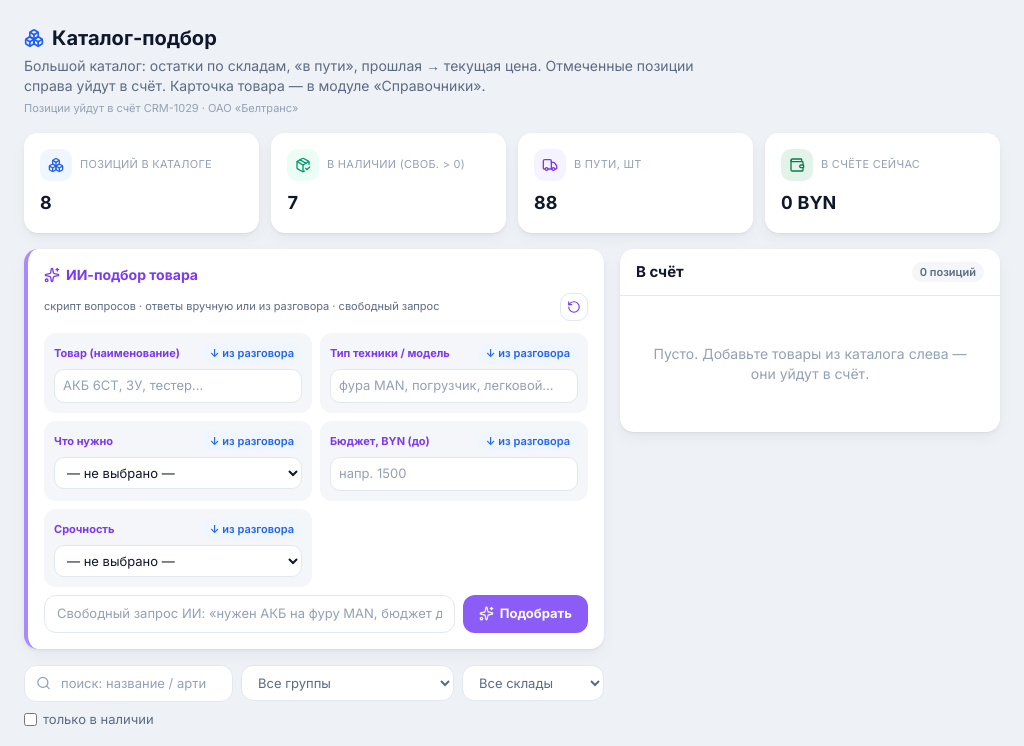
it: CatalogPicker › ИИ-подбор по свободному запросу ранжирует товар и кладёт его в счёт
Step 1. Replace the text in the field with placeholder "Свободный запрос ИИ" with "нужен АКБ на фуру MAN бюджет до 1500 срочно" → (249, 614), box [44, 595, 455, 632]
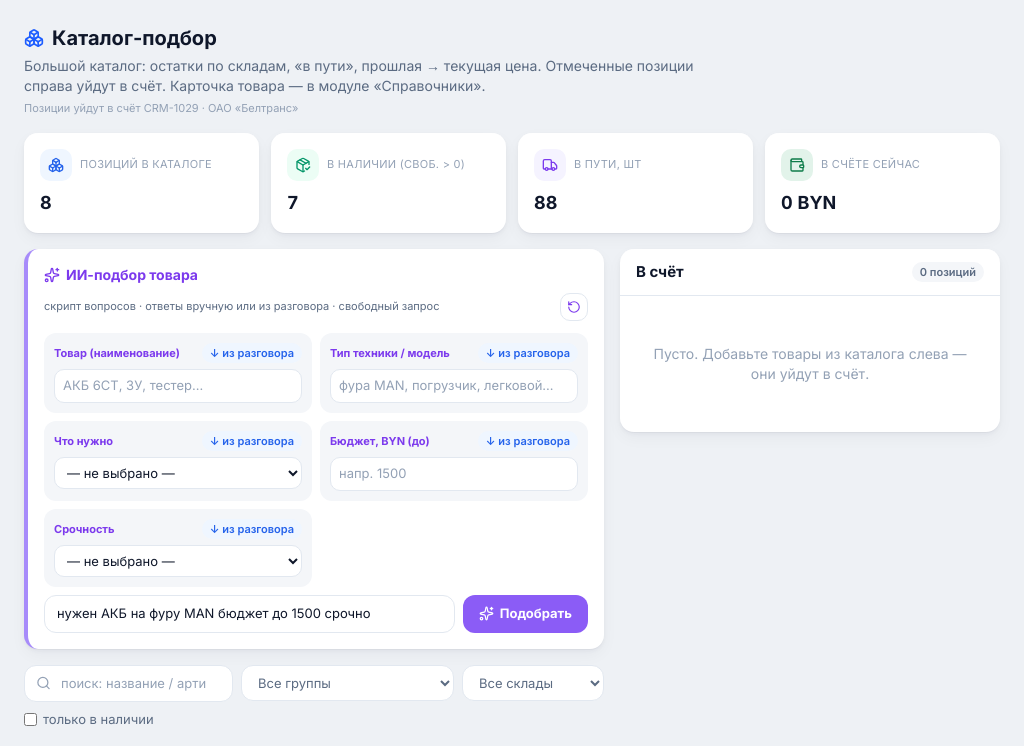
Step 2. Click the button "Подобрать" → (525, 614), box [463, 595, 588, 632]
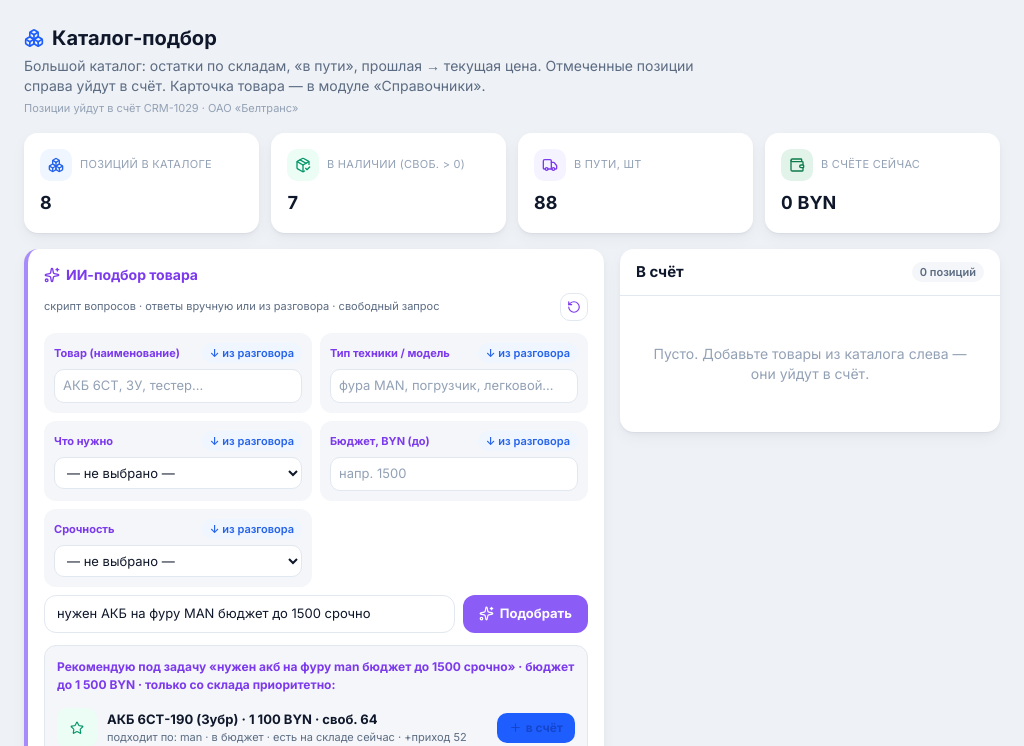
Expected: the text "Рекомендую под задачу" is shown, [57, 658, 217, 674]
кнопка «в счёт» (строчная) — из блока рекомендаций, а не из каталога («В счёт»)
Step 3. Click the button "в счёт" → (536, 728), box [497, 712, 575, 742]
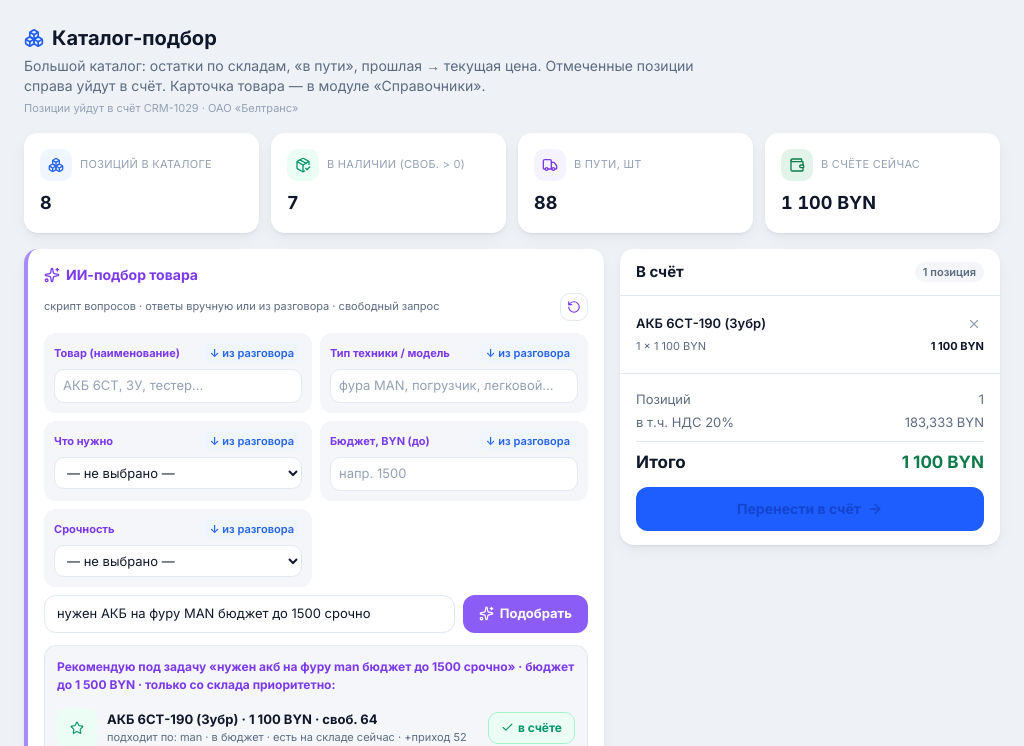
Expected: the text "Пусто. Добавьте товары" is gone
